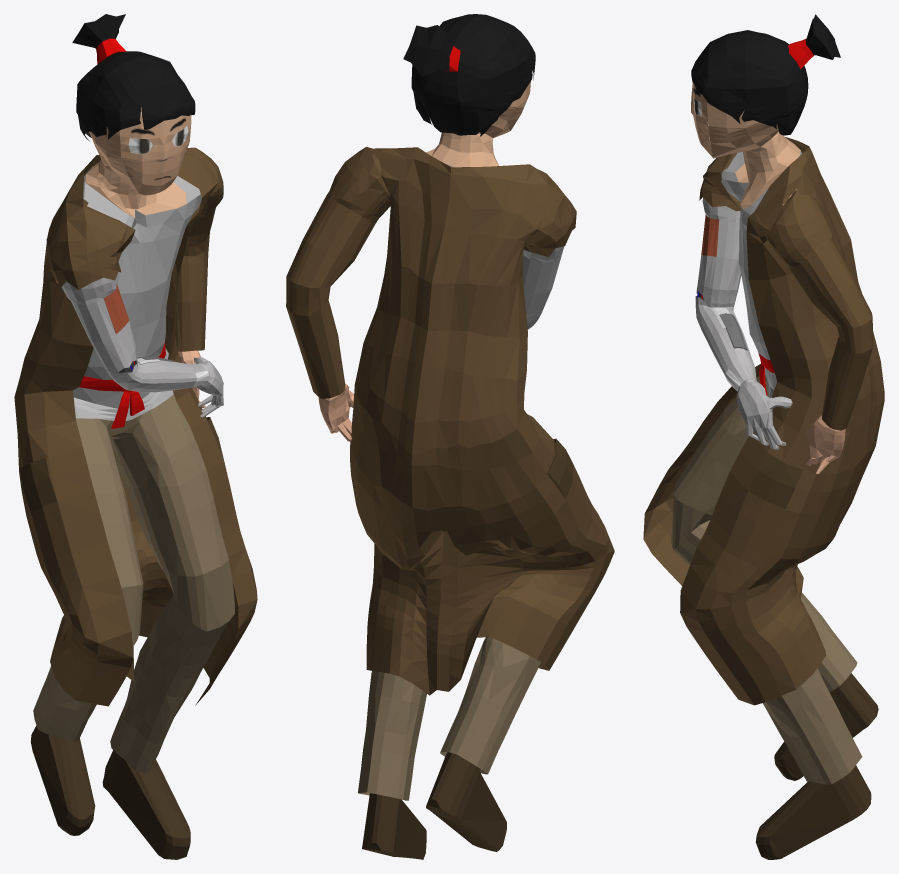
Rendered from One_RF_000018.obj.
3 renders of one model, left to right at view 1: azimuth 30°, elevation 25°; view 2: azimuth 150°, elevation 25°; view 3: azimuth 270°, elevation 25°, orthographic. The views are drawn at different scales.
Parts seen in each view (by area): view 1: Hair_Cube.004; view 2: Hair_Cube.004; view 3: Hair_Cube.004.
Boxes of the visible parts, x1,y1,x2,y2 form: Hair_Cube.004: (14, 14, 257, 859); Hair_Cube.004: (286, 14, 614, 859); Hair_Cube.004: (643, 14, 884, 859).
Size of the model in its own units: 1.1 by 3.92 by 1.05.
